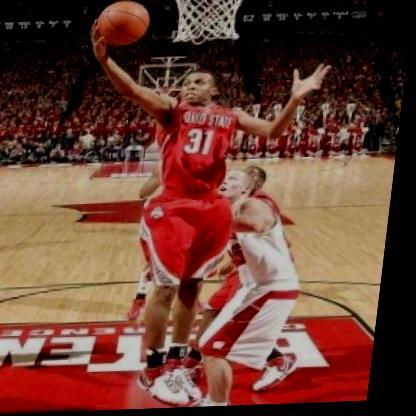basketball: (92, 0, 159, 55)
